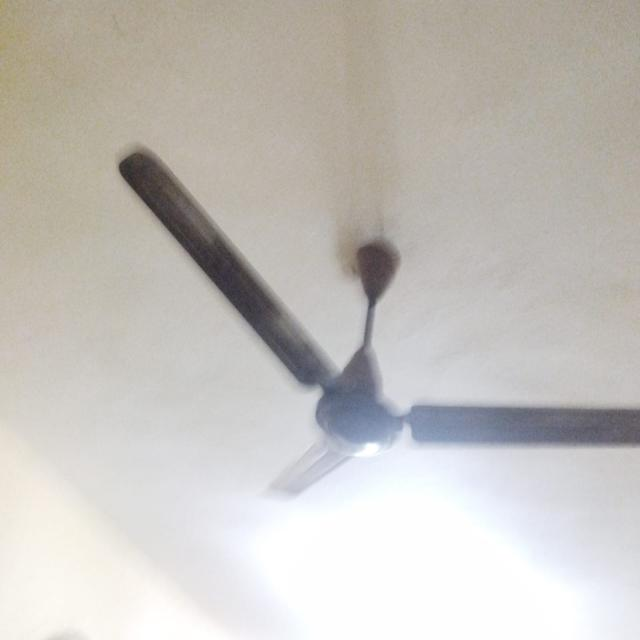fan_off: (122, 148, 640, 505)
